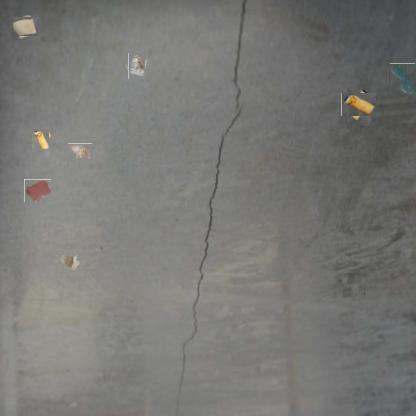dirty: (344, 90, 374, 119), (14, 15, 37, 38), (58, 251, 80, 273), (126, 56, 148, 77), (68, 143, 92, 160), (31, 130, 50, 148)
liquid: (389, 63, 415, 94), (24, 179, 51, 202)
